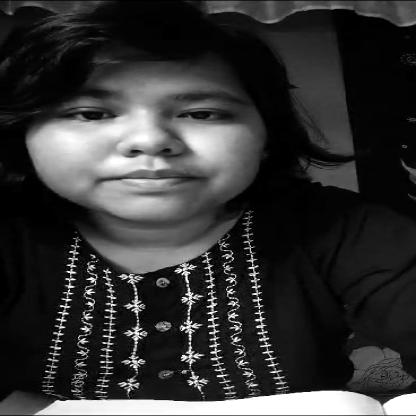Normal: (20, 51, 264, 226)
